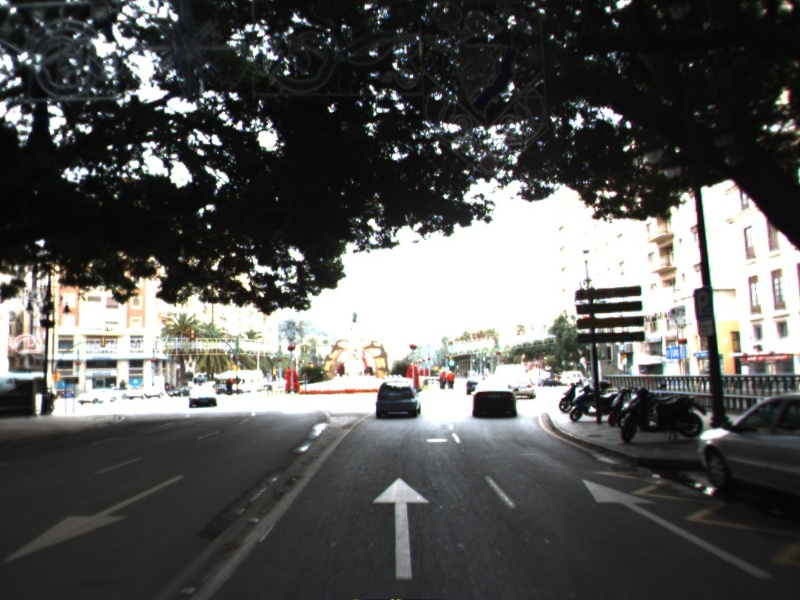STRAIGHT: (580, 477, 777, 582), (369, 473, 434, 582)
